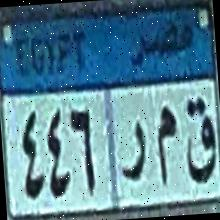4: (16, 105, 47, 204), (43, 98, 72, 200)
6: (69, 98, 100, 196)
meem: (150, 101, 182, 187)
qaaf: (177, 88, 220, 188)
raa: (116, 116, 149, 190)
